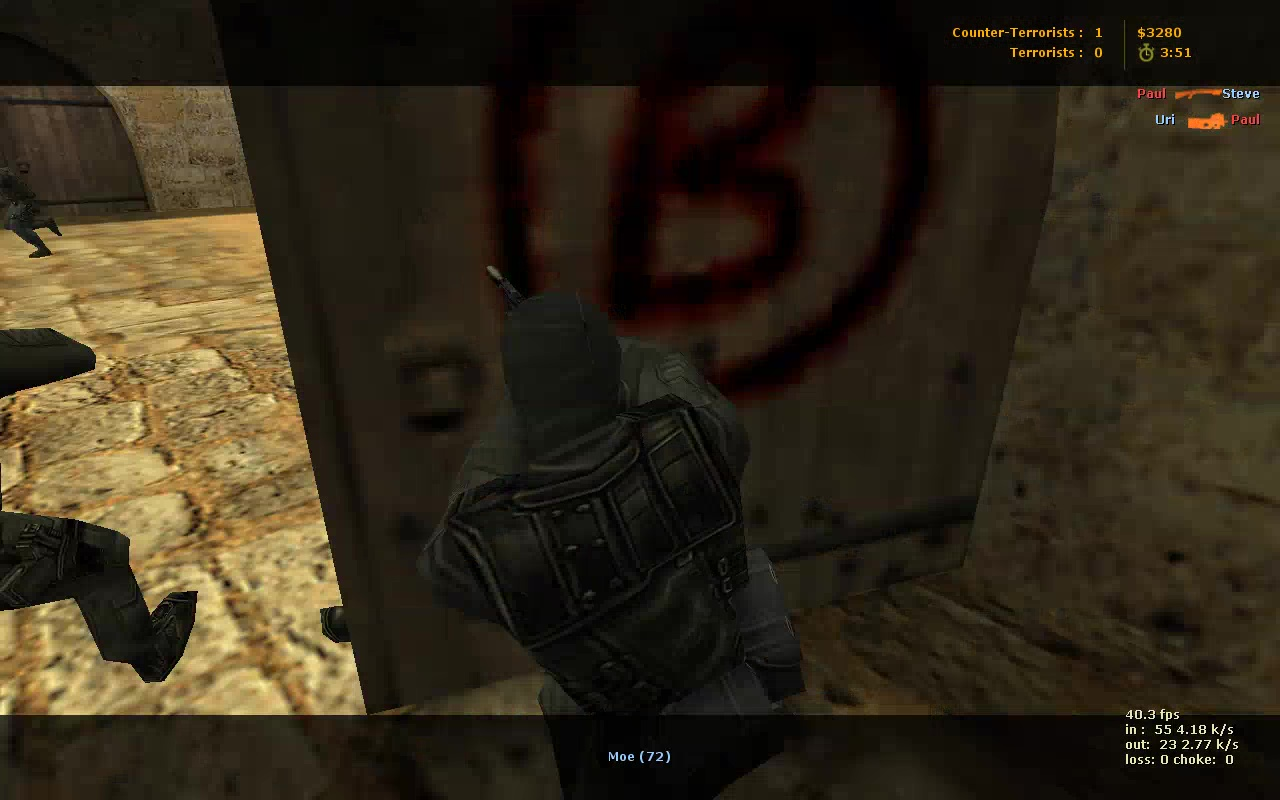ct: (1, 163, 56, 259)
